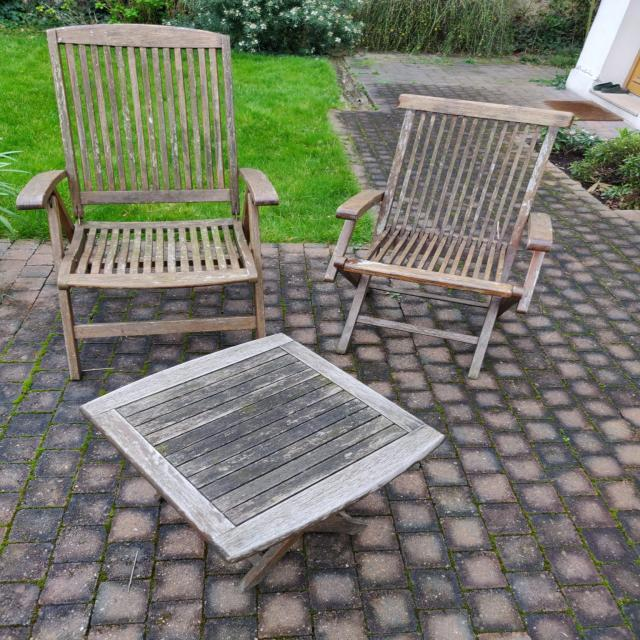mobile-phone: (83, 324, 443, 588)
